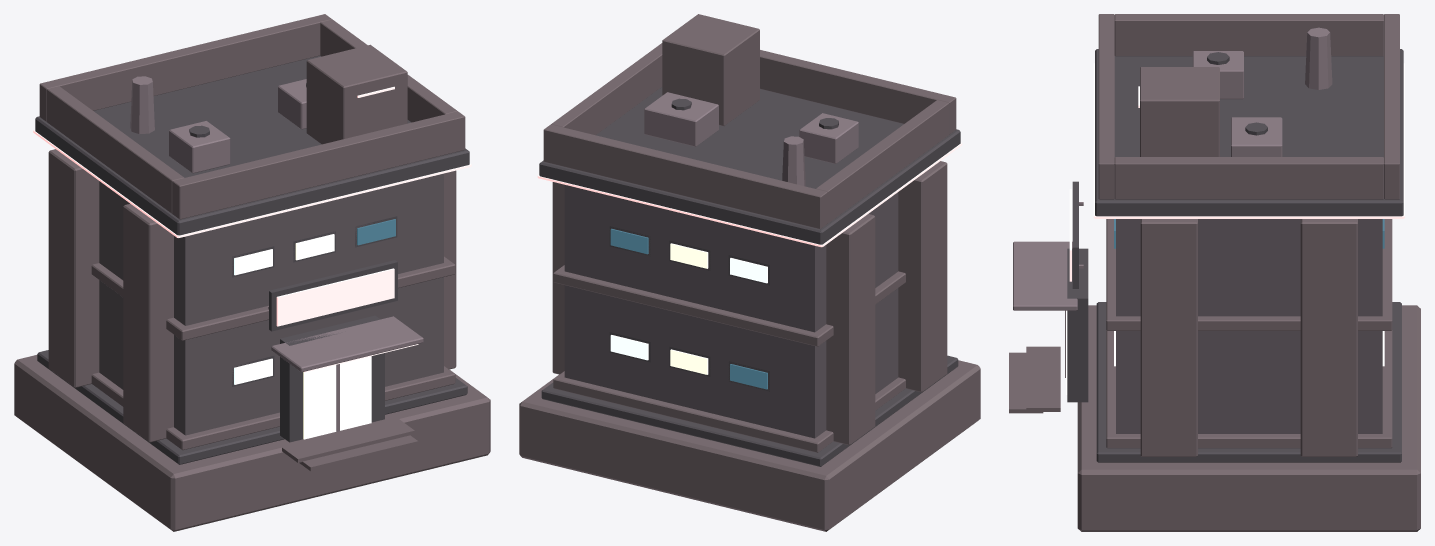
Rendered from response_center.glb.
The picture shows the model from 3 angles, left to right: view 1: azimuth 30°, elevation 25°; view 2: azimuth 150°, elevation 25°; view 3: azimuth 270°, elevation 25°; orthographic projection. The views are drawn at different scales.
Parts seen in each view (by area): view 1: response_center_Concrete@hardened, response_center_Graphite@hardened, response_center_DarkAlloy@hardened, response_center_Steel@hardened, response_center_Red, response_center_WarmGlass, response_center_CoolGlass, response_center_BlackGlass; view 2: response_center_Concrete@hardened, response_center_Graphite@hardened, response_center_DarkAlloy@hardened, response_center_Steel@hardened, response_center_WarmGlass, response_center_BlackGlass, response_center_CoolGlass, response_center_Red; view 3: response_center_Concrete@hardened, response_center_DarkAlloy@hardened, response_center_Graphite@hardened, response_center_Steel@hardened, response_center_Red.
Part boxes in pixels (<box>): response_center_Concrete@hardened: <box>14,14,490,531</box>; response_center_Graphite@hardened: <box>99,173,443,435</box>; response_center_DarkAlloy@hardened: <box>35,55,469,464</box>; response_center_Steel@hardened: <box>130,76,423,431</box>; response_center_Red: <box>33,86,471,372</box>; response_center_WarmGlass: <box>295,234,371,439</box>; response_center_CoolGlass: <box>234,249,272,384</box>; response_center_BlackGlass: <box>357,219,395,245</box>; response_center_Concrete@hardened: <box>519,14,980,531</box>; response_center_Graphite@hardened: <box>564,185,898,438</box>; response_center_DarkAlloy@hardened: <box>539,87,960,466</box>; response_center_Steel@hardened: <box>644,92,858,186</box>; response_center_WarmGlass: <box>670,243,708,374</box>; response_center_BlackGlass: <box>610,228,767,389</box>; response_center_CoolGlass: <box>610,258,767,360</box>; response_center_Red: <box>537,142,962,247</box>; response_center_Concrete@hardened: <box>1009,14,1420,531</box>; response_center_DarkAlloy@hardened: <box>1067,49,1403,462</box>; response_center_Graphite@hardened: <box>1116,219,1382,433</box>; response_center_Steel@hardened: <box>1013,27,1332,377</box>; response_center_Red: <box>1069,63,1404,281</box>.
Size of the model in its own units: 10.4 by 11.7 by 10.8.
